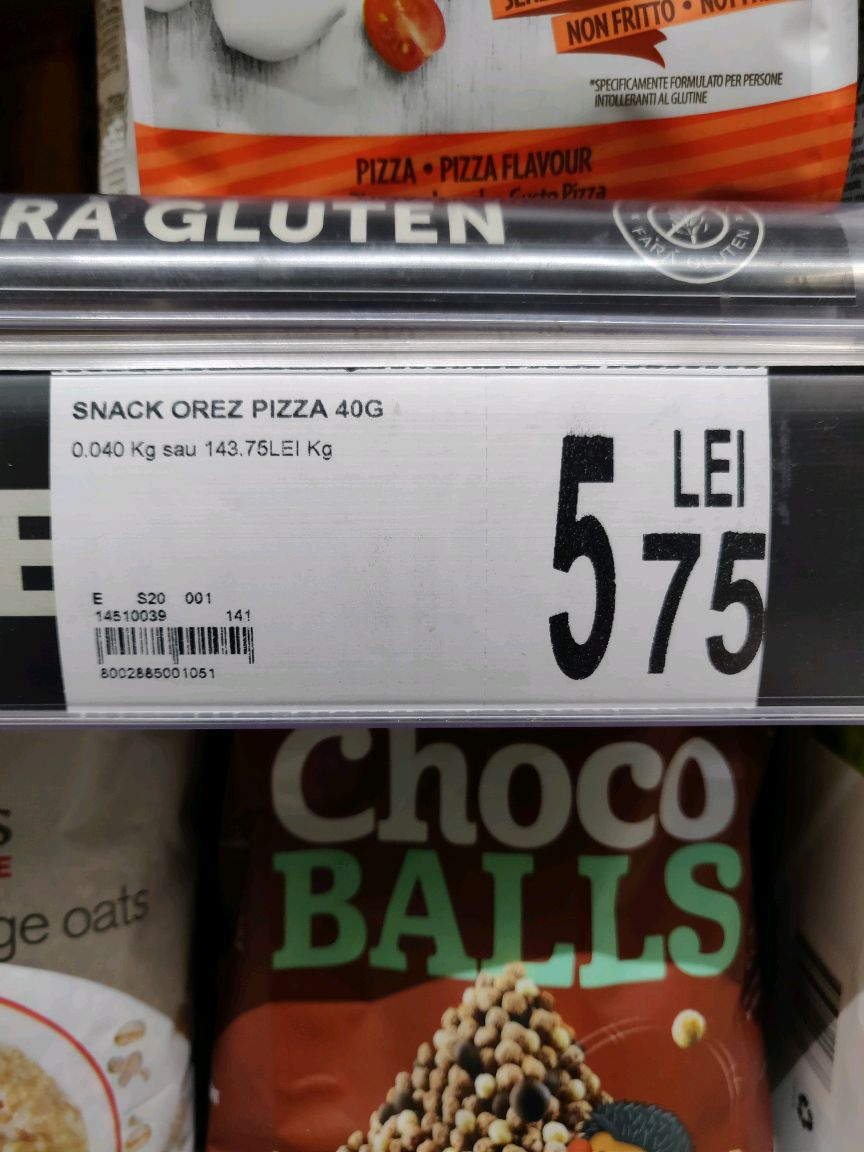price_bani: (630, 522, 777, 690)
price_lei: (542, 427, 628, 691)
price_tag: (33, 364, 785, 715)
product_id: (84, 665, 232, 691)
product_name: (57, 390, 404, 424)
